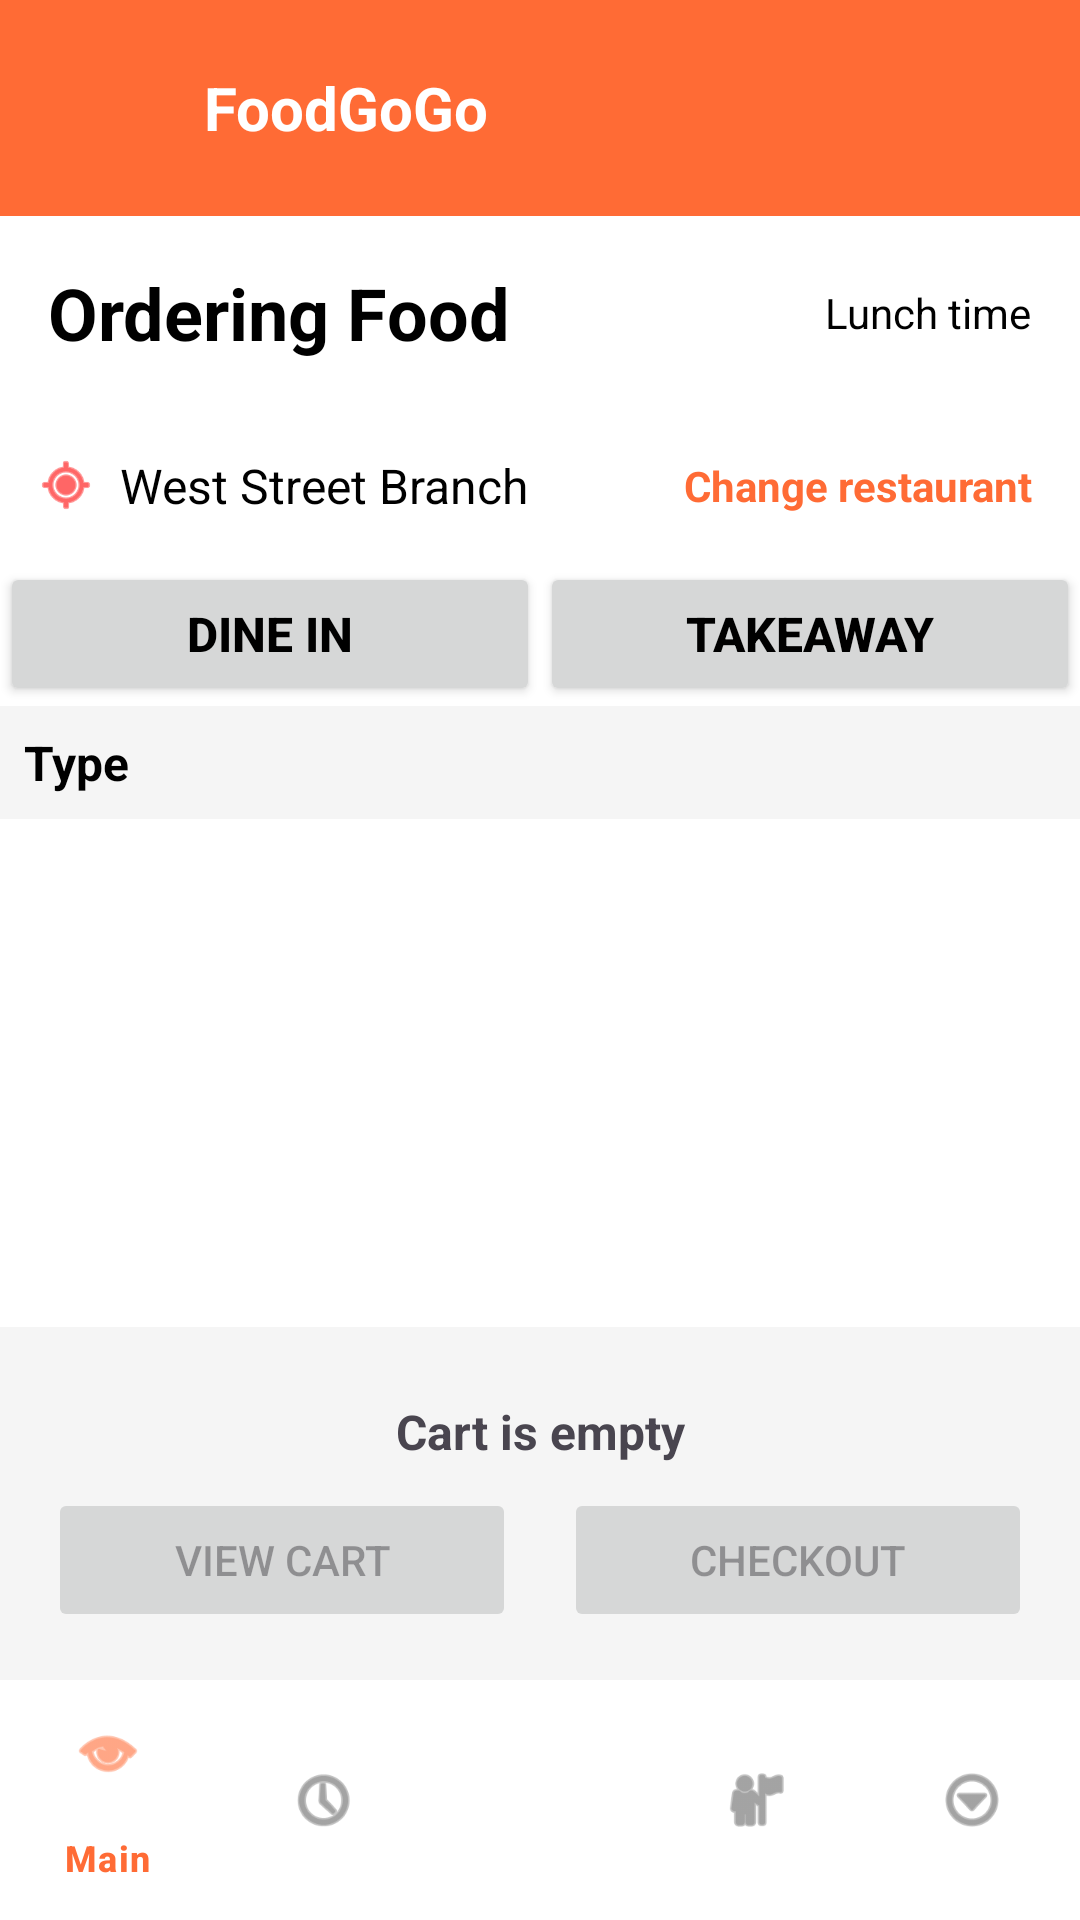

Locate icon controls on the screen. Image size 1080w x 1920h, boxes as (x1, y1, x2, y2).
Location: (42, 461, 90, 509)
